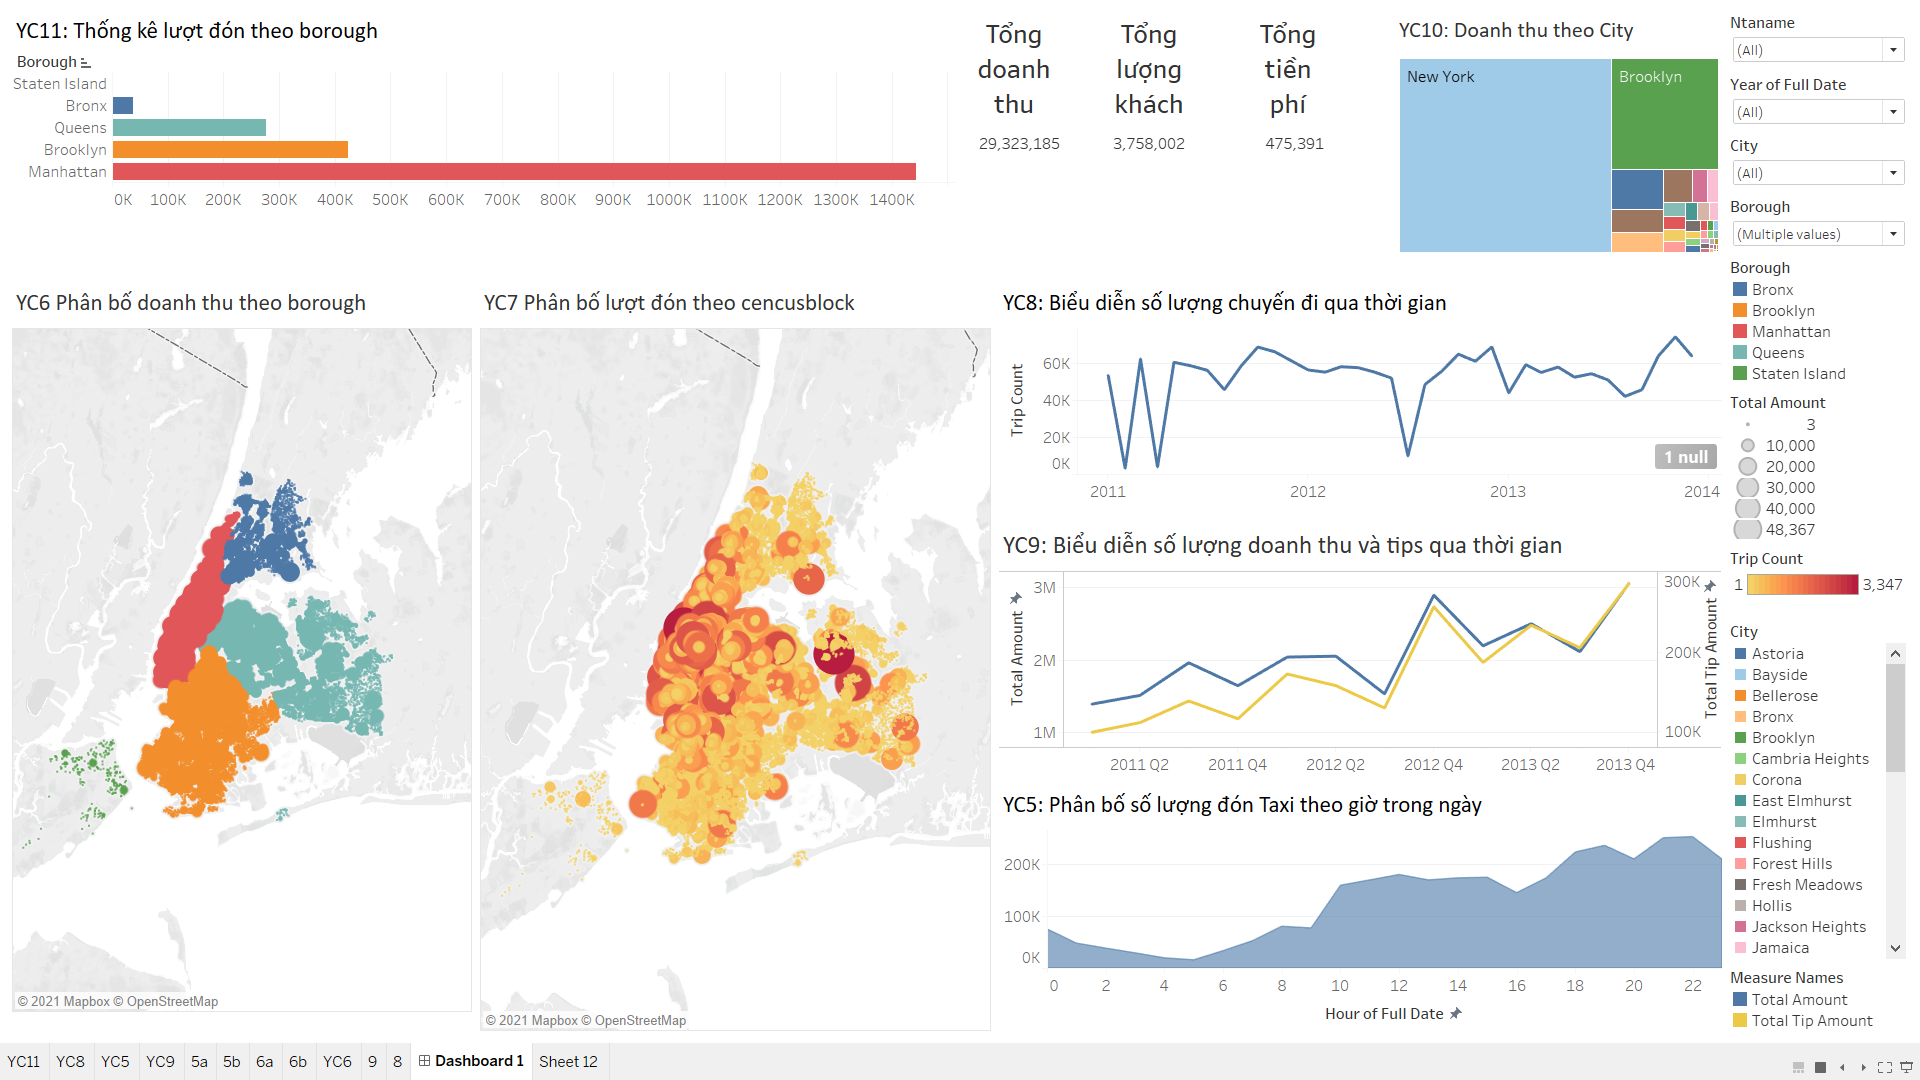

What the dashboard file says about the page in this screenshot:
{"tool":"tableau","page":{"name":"Dashboard 1","canvas":[1000,1000],"units":"permille","ordinal":0},"visuals":[{"type":"worksheet","box":[0,0,1000,1000]},{"type":"worksheet","param":"horz","box":[4.7,9.3,990.6,981.4]},{"type":"worksheet","box":[4.7,9.3,881.7,981.4]},{"type":"worksheet","title":"YC11","mark":"Automatic","rows":["BOROUGH"],"cols":["TRIP_COUNT"],"box":[4.7,9.3,488.3,260]},{"type":"worksheet","title":"5a","mark":"Automatic","box":[493,9.3,74.6,260]},{"type":"worksheet","title":"5b","mark":"Automatic","box":[567.6,9.3,71.4,260]},{"type":"worksheet","title":"6a","mark":"Automatic","box":[639,9.3,75.3,260]},{"type":"worksheet","title":"8","mark":"Automatic","box":[714.4,9.3,172,260]},{"type":"worksheet","param":"vert","box":[886.4,9.3,109,981.4]},{"type":"worksheet","title":"YC8","mark":"Line","rows":["TRIP_COUNT"],"cols":["FULL_DATE"],"param":"[federated.0ph30hd1ayn1wj1esvz8g1ne8ef1].[none:NTANAME:nk]","box":[886.4,9.3,109,72]},{"type":"worksheet","title":"YC8","mark":"Line","rows":["TRIP_COUNT"],"cols":["FULL_DATE"],"param":"[federated.0ph30hd1ayn1wj1esvz8g1ne8ef1].[yr:FULL_DATE:ok]","box":[886.4,81.3,109,70.9]},{"type":"worksheet","title":"YC11","mark":"Automatic","rows":["BOROUGH"],"cols":["TRIP_COUNT"],"param":"[federated.0ph30hd1ayn1wj1esvz8g1ne8ef1].[none:CITY:nk]","box":[886.4,152.2,109,70.9]},{"type":"worksheet","title":"YC11","mark":"Automatic","rows":["BOROUGH"],"cols":["TRIP_COUNT"],"param":"[federated.0ph30hd1ayn1wj1esvz8g1ne8ef1].[none:BOROUGH:nk]","box":[886.4,223,109,70.9]},{"type":"worksheet","title":"YC6","mark":"Automatic","rows":["LATITUDE"],"cols":["LONGTITUDE"],"box":[4.7,269.3,240,721.4]},{"type":"worksheet","title":"9","mark":"Automatic","rows":["LATITUDE"],"cols":["LONGTITUDE"],"box":[244.7,269.3,266.5,721.4]},{"type":"worksheet","title":"YC8","mark":"Line","rows":["TRIP_COUNT"],"cols":["FULL_DATE"],"box":[511.2,269.3,375.1,230]},{"type":"worksheet","title":"YC6","mark":"Automatic","rows":["LATITUDE"],"cols":["LONGTITUDE"],"param":"[federated.0ph30hd1ayn1wj1esvz8g1ne8ef1].[none:BOROUGH:nk]","box":[886.4,293.9,109,156.8]},{"type":"worksheet","title":"YC6","mark":"Automatic","rows":["LATITUDE"],"cols":["LONGTITUDE"],"param":"[federated.0ph30hd1ayn1wj1esvz8g1ne8ef1].[sum:TOTAL_AMOUNT:qk]","box":[886.4,450.6,109,181.2]},{"type":"worksheet","title":"YC9","mark":"Line","rows":["TOTAL_AMOUNT","TOTAL_TIP_AMOUNT"],"cols":["FULL_DATE"],"box":[511.2,499.3,375.1,249.7]},{"type":"worksheet","title":"9","mark":"Automatic","rows":["LATITUDE"],"cols":["LONGTITUDE"],"param":"[federated.0ph30hd1ayn1wj1esvz8g1ne8ef1].[sum:TRIP_COUNT:qk]","box":[886.4,631.8,109,84.8]},{"type":"worksheet","title":"8","mark":"Automatic","param":"[federated.0ph30hd1ayn1wj1esvz8g1ne8ef1].[none:CITY:nk]","box":[886.4,716.6,109,190.5]},{"type":"worksheet","title":"YC5","mark":"Area","rows":["TOTAL_PASSENGER_COUNT"],"cols":["FULL_DATE"],"box":[511.2,749,375.1,241.7]},{"type":"worksheet","title":"YC9","mark":"Line","rows":["TOTAL_AMOUNT","TOTAL_TIP_AMOUNT"],"cols":["FULL_DATE"],"param":"[federated.0ph30hd1ayn1wj1esvz8g1ne8ef1].[:Measure Names]","box":[886.4,907.1,109,83.6]}]}

Visuals, with their boxes on the dashboard's canvas, which has no fixed pixel size, in thousandths of its width and height (x1, y1, x2, y2). These are canvas units, not pixel positions in the 1920x1080 screenshot, which may show the page scaled, cropped or inside an application window:
worksheet: {"left": 0, "top": 0, "right": 1000, "bottom": 1000}
worksheet: {"left": 5, "top": 9, "right": 995, "bottom": 991}
worksheet: {"left": 5, "top": 9, "right": 886, "bottom": 991}
"YC11" worksheet: {"left": 5, "top": 9, "right": 493, "bottom": 269}
"5a" worksheet: {"left": 493, "top": 9, "right": 568, "bottom": 269}
"5b" worksheet: {"left": 568, "top": 9, "right": 639, "bottom": 269}
"6a" worksheet: {"left": 639, "top": 9, "right": 714, "bottom": 269}
"8" worksheet: {"left": 714, "top": 9, "right": 886, "bottom": 269}
worksheet: {"left": 886, "top": 9, "right": 995, "bottom": 991}
"YC8" worksheet (Line marks): {"left": 886, "top": 9, "right": 995, "bottom": 81}
"YC8" worksheet (Line marks): {"left": 886, "top": 81, "right": 995, "bottom": 152}
"YC11" worksheet: {"left": 886, "top": 152, "right": 995, "bottom": 223}
"YC11" worksheet: {"left": 886, "top": 223, "right": 995, "bottom": 294}
"YC6" worksheet: {"left": 5, "top": 269, "right": 245, "bottom": 991}
"9" worksheet: {"left": 245, "top": 269, "right": 511, "bottom": 991}
"YC8" worksheet (Line marks): {"left": 511, "top": 269, "right": 886, "bottom": 499}
"YC6" worksheet: {"left": 886, "top": 294, "right": 995, "bottom": 451}
"YC6" worksheet: {"left": 886, "top": 451, "right": 995, "bottom": 632}
"YC9" worksheet (Line marks): {"left": 511, "top": 499, "right": 886, "bottom": 749}
"9" worksheet: {"left": 886, "top": 632, "right": 995, "bottom": 717}
"8" worksheet: {"left": 886, "top": 717, "right": 995, "bottom": 907}
"YC5" worksheet (Area marks): {"left": 511, "top": 749, "right": 886, "bottom": 991}
"YC9" worksheet (Line marks): {"left": 886, "top": 907, "right": 995, "bottom": 991}
